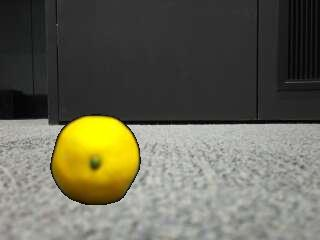lemon: (53, 117, 140, 206)
